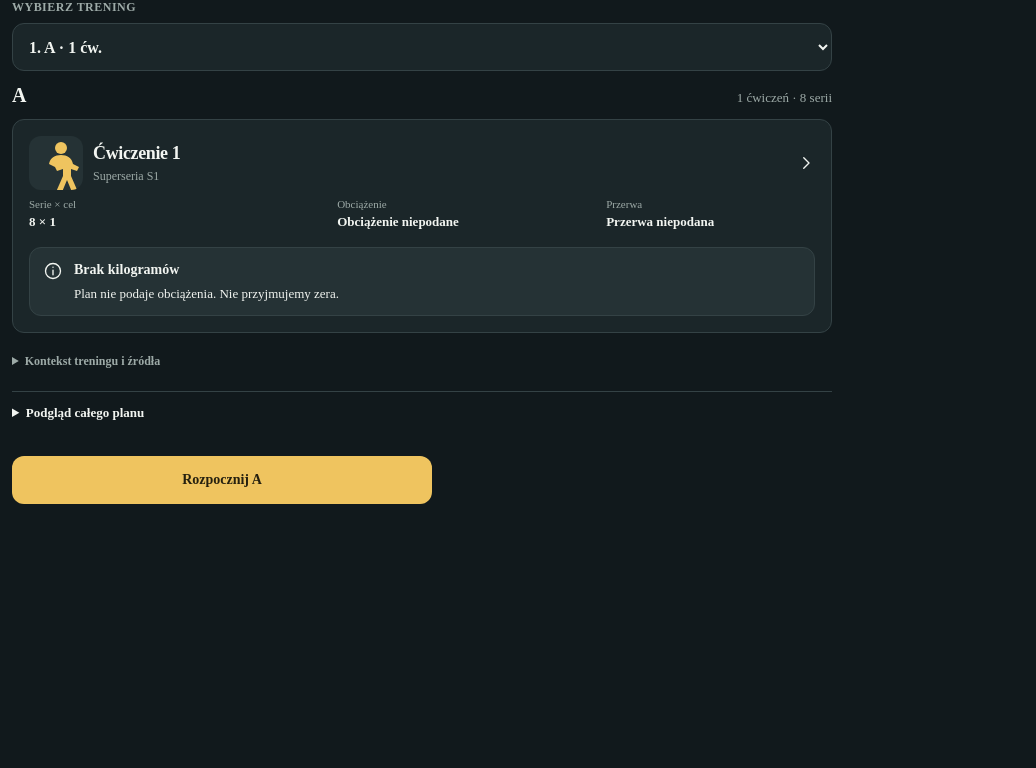
fallback błędnego ID, brak pamięci i podgląd całości pozostawiają wybór sprawny
Expected: the dropdown labelled "Wybierz trening" shows "1. A · 1 ćw.", [12, 23, 832, 71]
Click the heading "Podgląd całego planu".
click(85, 413)  # box [26, 405, 144, 420]
(page scrolled)
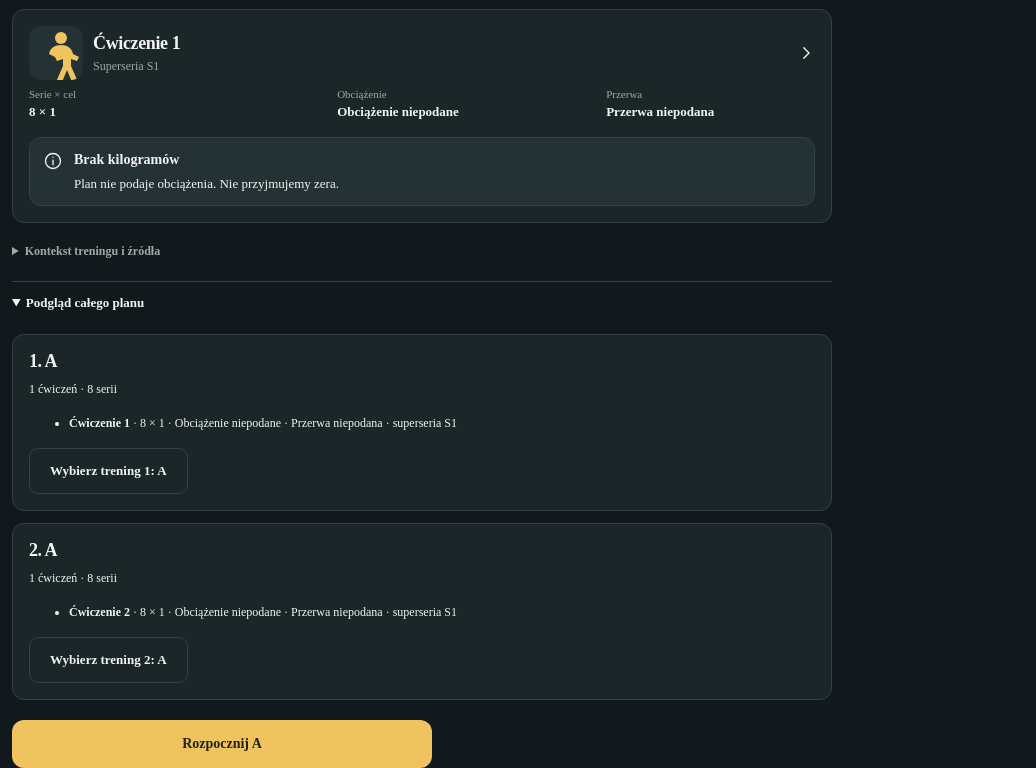
Click the button "Wybierz trening 2: A".
click(108, 660)  # box [29, 637, 188, 683]
(page scrolled)
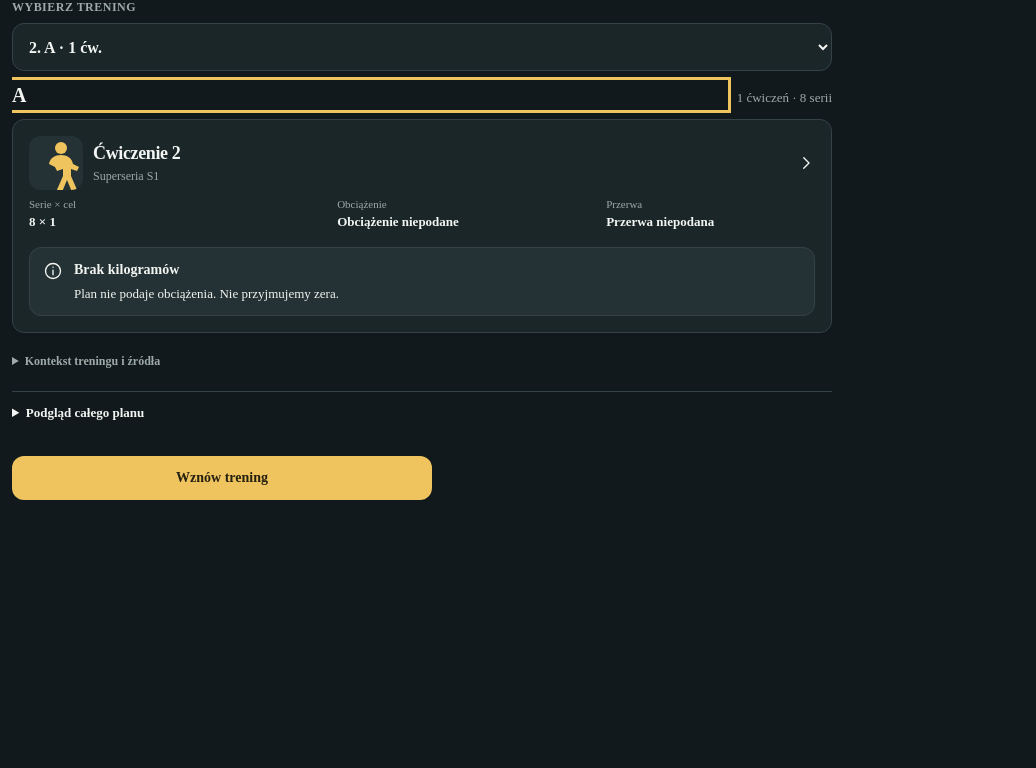
Result: the dropdown labelled "Wybierz trening" shows "2. A · 1 ćw." at [12, 23, 832, 71]
